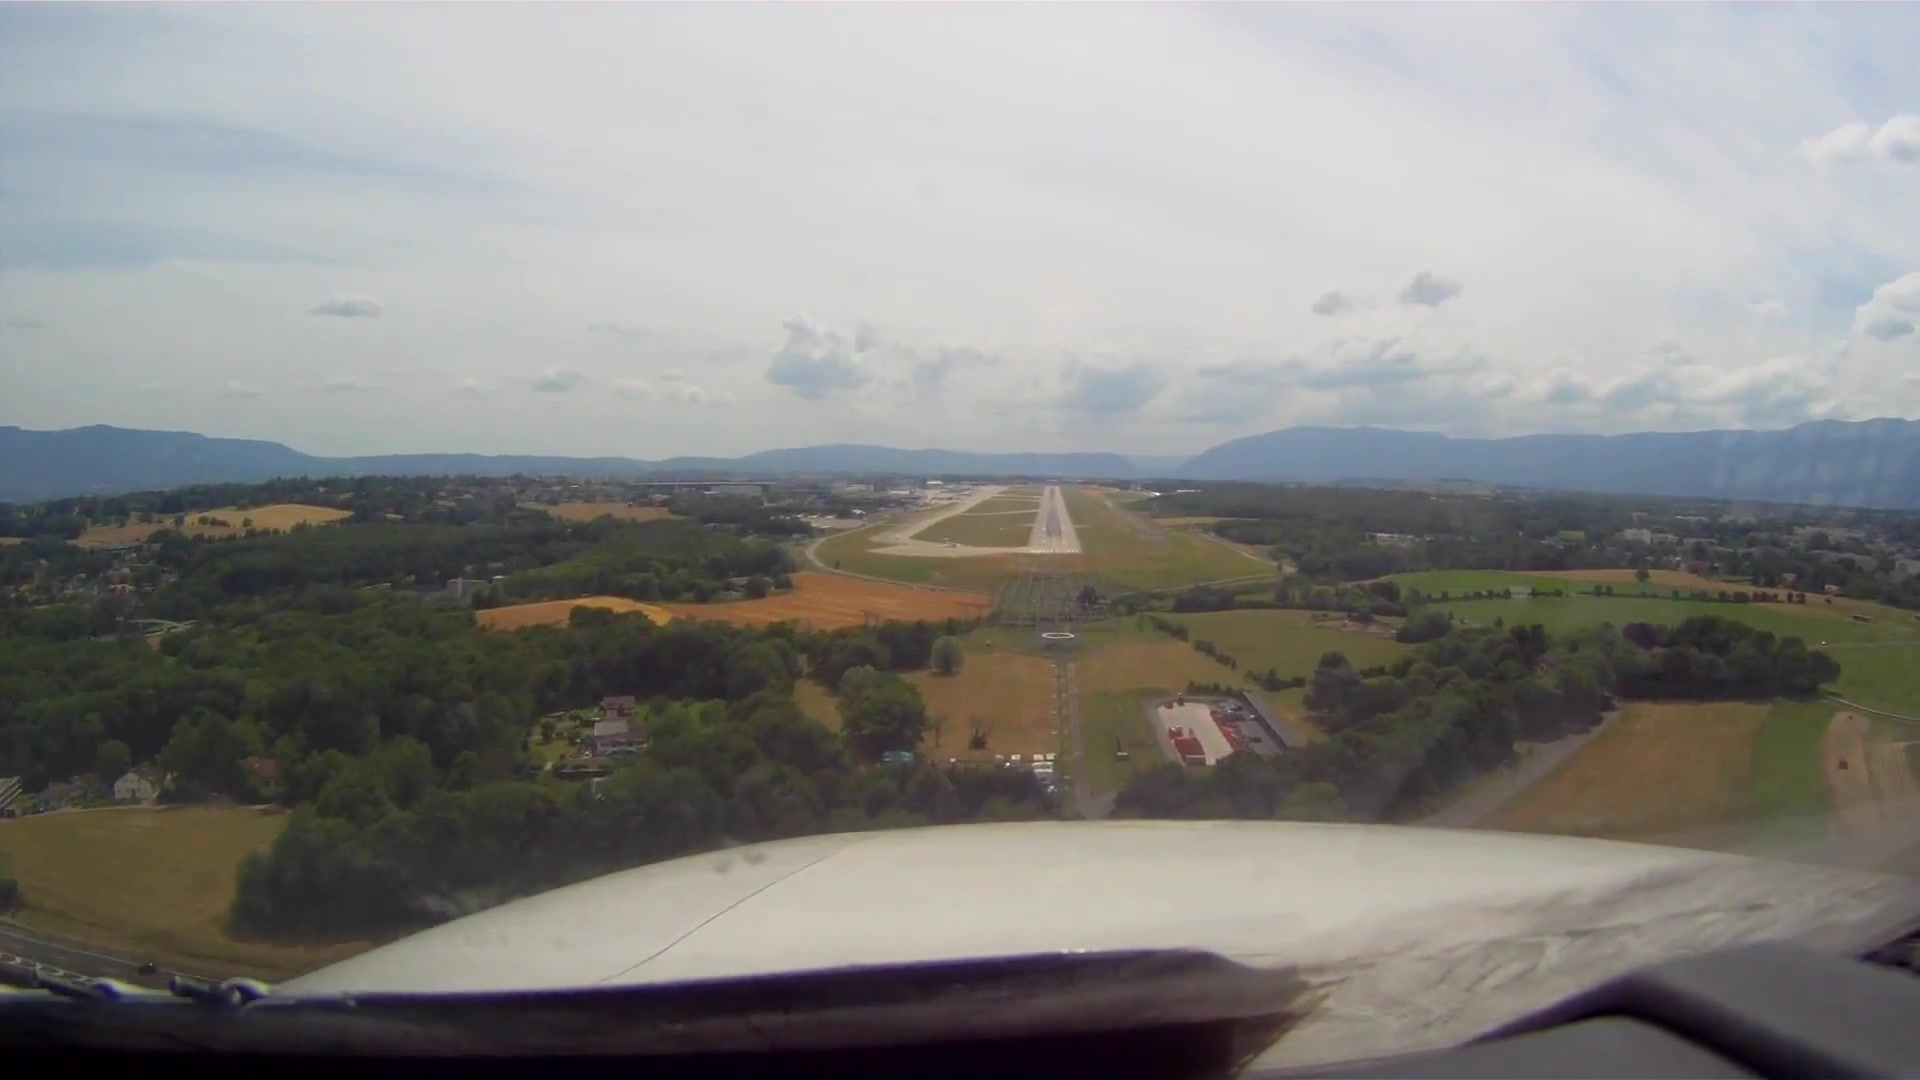entrance: (1030, 547, 1080, 554)
runway: (1025, 485, 1087, 558)
